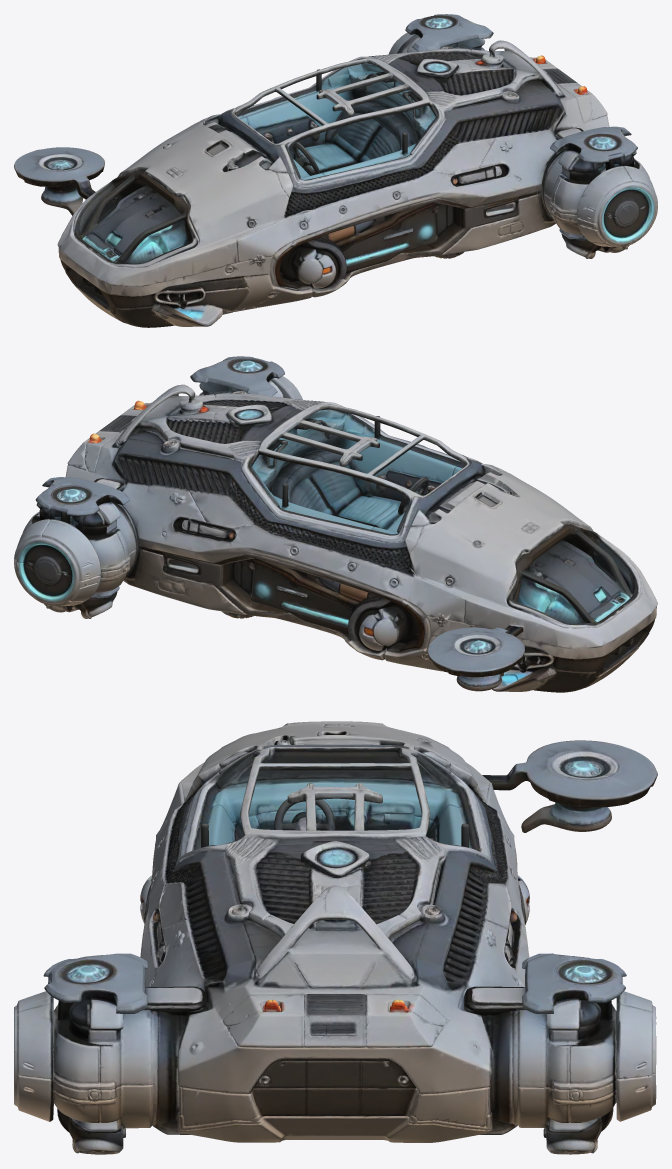
File: drone.glb
3 renders of one model, top to bottom at view 1: azimuth 30°, elevation 25°; view 2: azimuth 150°, elevation 25°; view 3: azimuth 270°, elevation 25°, orthographic. The views are drawn at different scales.
Parts seen in each view (by area): view 1: tripo_node_16a3b300-1710-43b0-bb4e-59f21fc577ef; view 2: tripo_node_16a3b300-1710-43b0-bb4e-59f21fc577ef; view 3: tripo_node_16a3b300-1710-43b0-bb4e-59f21fc577ef.
Part boxes in pixels (left/top/right/bottom): tripo_node_16a3b300-1710-43b0-bb4e-59f21fc577ef: left=14, top=14, right=657, bottom=327; tripo_node_16a3b300-1710-43b0-bb4e-59f21fc577ef: left=14, top=356, right=657, bottom=692; tripo_node_16a3b300-1710-43b0-bb4e-59f21fc577ef: left=14, top=721, right=657, bottom=1154.
Bounding box in the file's own units: 0.979 × 0.3235 × 0.7239.
Materials: 1 (1 with a texture image).
